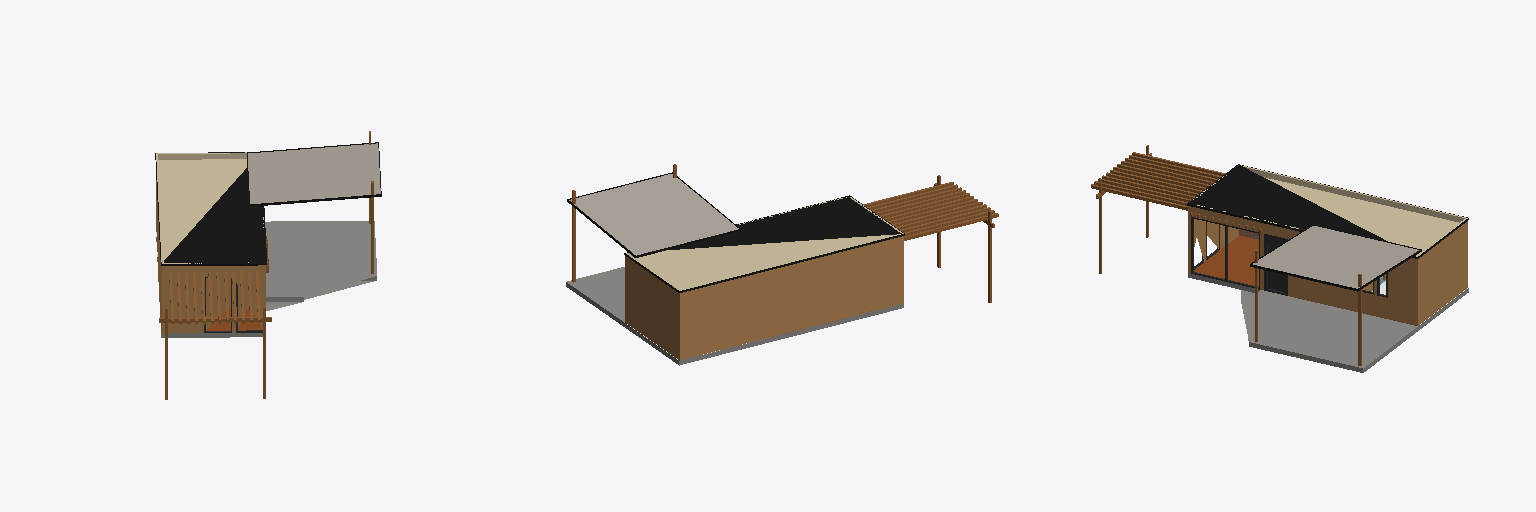
The model's file is small2.obj.
3 views of the same model, side by side, from view 1: azimuth 30°, elevation 25°; view 2: azimuth 150°, elevation 25°; view 3: azimuth 270°, elevation 25° (orthographic).
Visible parts, largest first — view 1: Mesh16 Suelo Basicos Infraestructura Model, Mesh31 TechoSecundario NuevoTechito Techo_1 Basicos Infraestruct, Mesh28 TechoGeneral Techo_0 Basicos Infraestructura Model, Mesh29 BordeDelTecho Techo_0 Basicos Infraestructura Model, Mesh50 Group16 Model, Mesh32 BordeDelTechoSecundario NuevoTechito Techo_1 Basicos Infr; view 2: Mesh50 Group16 Model, Mesh31 TechoSecundario NuevoTechito Techo_1 Basicos Infraestruct, Mesh29 BordeDelTecho Techo_0 Basicos Infraestructura Model, Mesh28 TechoGeneral Techo_0 Basicos Infraestructura Model, Mesh16 Suelo Basicos Infraestructura Model, Mesh32 BordeDelTechoSecundario NuevoTechito Techo_1 Basicos Infr; view 3: Mesh16 Suelo Basicos Infraestructura Model, Mesh50 Group16 Model, Mesh28 TechoGeneral Techo_0 Basicos Infraestructura Model, Mesh31 TechoSecundario NuevoTechito Techo_1 Basicos Infraestruct, Mesh29 BordeDelTecho Techo_0 Basicos Infraestructura Model, Mesh32 BordeDelTechoSecundario NuevoTechito Techo_1 Basicos Infr, Mesh10 Group4 Group2 Group1 Ventanas Basicos Infraestructura Mod, Mesh11 Group1 Ventanas Basicos Infraestructura Model.
Boxes of the visible parts, <box> form: Mesh16 Suelo Basicos Infraestructura Model: <box>156,221,376,337</box>; Mesh31 TechoSecundario NuevoTechito Techo_1 Basicos Infraestruct: <box>248,143,380,203</box>; Mesh28 TechoGeneral Techo_0 Basicos Infraestructura Model: <box>156,152,263,263</box>; Mesh29 BordeDelTecho Techo_0 Basicos Infraestructura Model: <box>155,152,266,265</box>; Mesh50 Group16 Model: <box>156,180,265,333</box>; Mesh32 BordeDelTechoSecundario NuevoTechito Techo_1 Basicos Infr: <box>247,142,381,205</box>; Mesh50 Group16 Model: <box>625,236,903,360</box>; Mesh31 TechoSecundario NuevoTechito Techo_1 Basicos Infraestruct: <box>569,174,738,255</box>; Mesh29 BordeDelTecho Techo_0 Basicos Infraestructura Model: <box>624,195,904,292</box>; Mesh28 TechoGeneral Techo_0 Basicos Infraestructura Model: <box>626,197,903,290</box>; Mesh16 Suelo Basicos Infraestructura Model: <box>566,267,903,365</box>; Mesh32 BordeDelTechoSecundario NuevoTechito Techo_1 Basicos Infr: <box>567,172,740,257</box>; Mesh16 Suelo Basicos Infraestructura Model: <box>1188,235,1468,372</box>; Mesh50 Group16 Model: <box>1188,206,1467,325</box>; Mesh28 TechoGeneral Techo_0 Basicos Infraestructura Model: <box>1193,165,1467,256</box>; Mesh31 TechoSecundario NuevoTechito Techo_1 Basicos Infraestruct: <box>1253,226,1418,288</box>; Mesh29 BordeDelTecho Techo_0 Basicos Infraestructura Model: <box>1187,164,1468,258</box>; Mesh32 BordeDelTechoSecundario NuevoTechito Techo_1 Basicos Infr: <box>1250,224,1421,291</box>; Mesh10 Group4 Group2 Group1 Ventanas Basicos Infraestructura Mod: <box>1191,217,1259,289</box>; Mesh11 Group1 Ventanas Basicos Infraestructura Model: <box>1264,234,1287,295</box>.
Bounding box in the file's own units: 14.28 × 4.8 × 14.44.